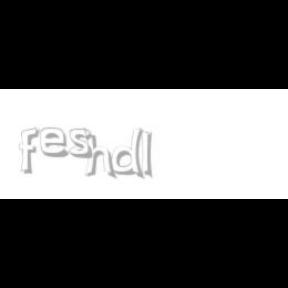d: (112, 128, 148, 180)
e: (40, 128, 72, 158)
f: (19, 128, 43, 174)
h: (83, 128, 118, 180)
l: (140, 128, 156, 180)
s: (69, 128, 97, 160)
